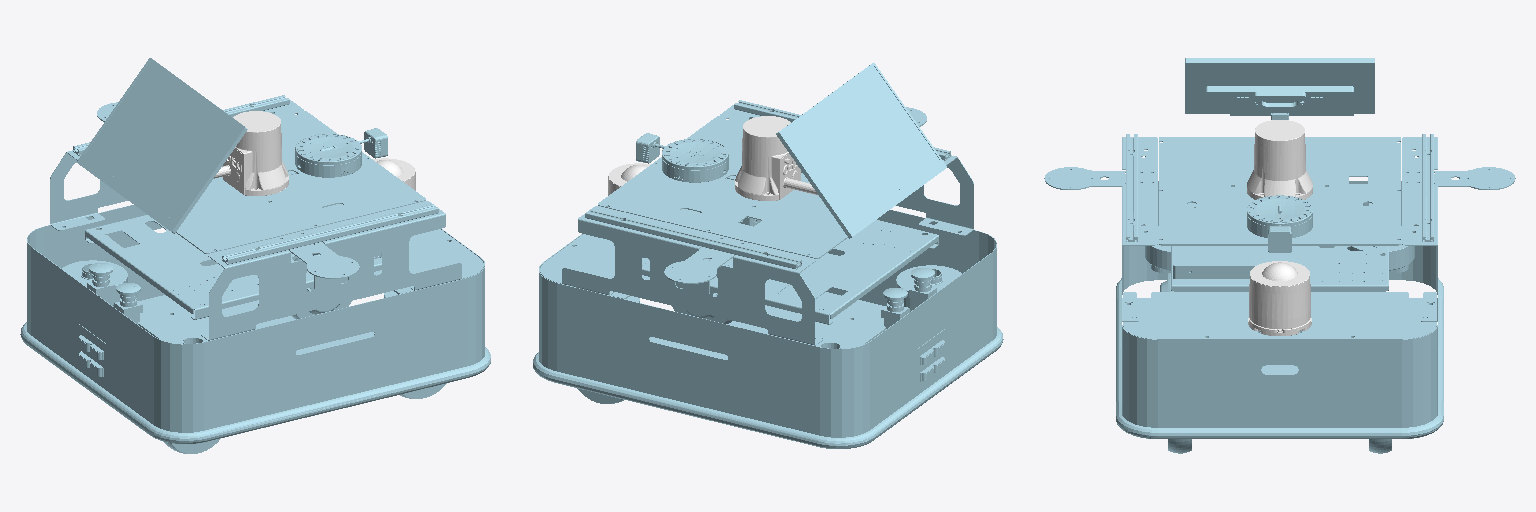
The robot description file, URDF, robot "lucsys_lsr280":
<?xml version='1.0' encoding='utf-8'?>
<robot name="lucsys_lsr280">
  <link name="base_link">
    <inertial>
      <origin xyz="-0.00753797834386813 -0.00814576137308423 0.203659052007732" rpy="0 0 0" />
      <mass value="3.83753509134802" />
      <inertia ixx="0.0690213522644573" ixy="6.3310630155369E-06" ixz="-0.00108874459642607" iyy="0.075412231675279" iyz="0.000103677497419522" izz="0.134765586841472" />
    </inertial>
    <visual>
      <origin xyz="0 0 0" rpy="0 0 0" />
      <geometry>
        <mesh filename="package://lucsys_lsr280_description/meshes/lsr280/base_link.STL" />
      </geometry>
      <material name="lucsys_material_0">
        <color rgba="0.741176470588235 0.901960784313726 0.956862745098039 1" />
      </material>
    </visual>
    <collision>
      <origin xyz="0 0 0" rpy="0 0 0" />
      <geometry>
        <mesh filename="package://lucsys_lsr280_description/meshes/lsr280/base_link.STL" />
      </geometry>
    </collision>
  </link>
  <link name="rf_steer_link">
    <inertial>
      <origin xyz="-7.58230422892581E-11 0.00564153541988954 0.00604698440640848" rpy="0 0 0" />
      <mass value="0.467711369013212" />
      <inertia ixx="0.000425754119516289" ixy="7.54298178742571E-16" ixz="-3.69123515824386E-14" iyy="0.000451726615216854" iyz="-6.92990173961664E-15" izz="0.000706217744742119" />
    </inertial>
    <visual>
      <origin xyz="0 0 0" rpy="0 0 0" />
      <geometry>
        <mesh filename="package://lucsys_lsr280_description/meshes/lsr280/rf_steer_link.STL" />
      </geometry>
      <material name="lucsys_material_1">
        <color rgba="0.741176470588235 0.901960784313726 0.956862745098039 1" />
      </material>
    </visual>
    <collision>
      <origin xyz="0 0 0" rpy="0 0 0" />
      <geometry>
        <mesh filename="package://lucsys_lsr280_description/meshes/lsr280/rf_steer_link.STL" />
      </geometry>
    </collision>
  </link>
  <joint name="rf_steer_link" type="revolute">
    <origin xyz="0.214 -0.1652 0.0864" rpy="0 0 0" />
    <parent link="base_link" />
    <child link="rf_steer_link" />
    <axis xyz="0 0 1" />
    <limit lower="-1.57" upper="1.57" effort="0" velocity="0" />
  </joint>
  <link name="rf_wheel_link">
    <inertial>
      <origin xyz="4.83054429789576E-09 -0.000385227412223188 -0.0865001963373404" rpy="0 0 0" />
      <mass value="0.595472207147975" />
      <inertia ixx="0.000649716858839428" ixy="-1.01923145237361E-10" ixz="-1.51483222229343E-24" iyy="0.00104817179765492" iyz="1.05741091814864E-09" izz="0.000649695675212691" />
    </inertial>
    <visual>
      <origin xyz="-0.000000 0.000385 0.086500" rpy="0 0 0" />
      <geometry>
        <mesh filename="package://lucsys_lsr280_description/meshes/lsr280/rf_wheel_link.STL" />
      </geometry>
      <material name="lucsys_material_2">
        <color rgba="0.741176470588235 0.901960784313726 0.956862745098039 1" />
      </material>
    </visual>
    <collision>
      <origin xyz="-0.000000 0.000385 0.086500" rpy="0 0 0" />
      <geometry>
        <mesh filename="package://lucsys_lsr280_description/meshes/lsr280/rf_wheel_link.STL" />
      </geometry>
    </collision>
  </link>
  <joint name="rf_wheel_link" type="continuous">
    <origin xyz="0 0.0002 -0.0865" rpy="0 0 0" />
    <parent link="rf_steer_link" />
    <child link="rf_wheel_link" />
    <axis xyz="0 -1 0" />
  </joint>
  <link name="lf_steer_link">
    <inertial>
      <origin xyz="7.58230700448337E-11 -0.00564153541988963 0.00604698440640844" rpy="0 0 0" />
      <mass value="0.467711369013212" />
      <inertia ixx="0.000425754119516289" ixy="7.54305357997683E-16" ixz="3.69131723544446E-14" iyy="0.000451726615216855" iyz="6.92989030813649E-15" izz="0.000706217744742119" />
    </inertial>
    <visual>
      <origin xyz="0 0 0" rpy="0 0 0" />
      <geometry>
        <mesh filename="package://lucsys_lsr280_description/meshes/lsr280/lf_steer_link.STL" />
      </geometry>
      <material name="lucsys_material_3">
        <color rgba="0.741176470588235 0.901960784313726 0.956862745098039 1" />
      </material>
    </visual>
    <collision>
      <origin xyz="0 0 0" rpy="0 0 0" />
      <geometry>
        <mesh filename="package://lucsys_lsr280_description/meshes/lsr280/lf_steer_link.STL" />
      </geometry>
    </collision>
  </link>
  <joint name="lf_steer_link" type="revolute">
    <origin xyz="0.214 0.1652 0.0864" rpy="0 0 0" />
    <parent link="base_link" />
    <child link="lf_steer_link" />
    <axis xyz="0 0 1" />
    <limit lower="-1.57" upper="1.57" effort="0" velocity="0" />
  </joint>
  <link name="lf_wheel_link">
    <inertial>
      <origin xyz="-5.20844425921929E-09 0.000185227346942707 -1.96337340457891E-07" rpy="0 0 0" />
      <mass value="0.595472207147977" />
      <inertia ixx="0.00064971685883943" ixy="-1.01923145396449E-10" ixz="-6.10251145013779E-23" iyy="0.00104817179765493" iyz="-1.0574109181388E-09" izz="0.000649695675212693" />
    </inertial>
    <visual>
      <origin xyz="0 0 0" rpy="0 0 0" />
      <geometry>
        <mesh filename="package://lucsys_lsr280_description/meshes/lsr280/lf_wheel_link.STL" />
      </geometry>
      <material name="lucsys_material_4">
        <color rgba="0.741176470588235 0.901960784313726 0.956862745098039 1" />
      </material>
    </visual>
    <collision>
      <origin xyz="0 0 0" rpy="0 0 0" />
      <geometry>
        <mesh filename="package://lucsys_lsr280_description/meshes/lsr280/lf_wheel_link.STL" />
      </geometry>
    </collision>
  </link>
  <joint name="lf_wheel_link" type="continuous">
    <origin xyz="0 0.0002 -0.0865" rpy="0 0 0" />
    <parent link="lf_steer_link" />
    <child link="lf_wheel_link" />
    <axis xyz="0 -1 0" />
  </joint>
  <link name="rb_steer_link">
    <inertial>
      <origin xyz="-7.58230700448337E-11 0.00564153541988954 0.00604698440640847" rpy="0 0 0" />
      <mass value="0.467711369013212" />
      <inertia ixx="0.00042575411951629" ixy="7.54383015235181E-16" ixz="-3.69123412639467E-14" iyy="0.000451726615216855" iyz="-6.93020398684759E-15" izz="0.000706217744742119" />
    </inertial>
    <visual>
      <origin xyz="0 0 0" rpy="0 0 0" />
      <geometry>
        <mesh filename="package://lucsys_lsr280_description/meshes/lsr280/rb_steer_link.STL" />
      </geometry>
      <material name="lucsys_material_5">
        <color rgba="0.741176470588235 0.901960784313726 0.956862745098039 1" />
      </material>
    </visual>
    <collision>
      <origin xyz="0 0 0" rpy="0 0 0" />
      <geometry>
        <mesh filename="package://lucsys_lsr280_description/meshes/lsr280/rb_steer_link.STL" />
      </geometry>
    </collision>
  </link>
  <joint name="rb_steer_link" type="revolute">
    <origin xyz="-0.214 -0.1652 0.0864" rpy="0 0 0" />
    <parent link="base_link" />
    <child link="rb_steer_link" />
    <axis xyz="0 0 1" />
    <limit lower="-1.57" upper="1.57" effort="0" velocity="0" />
  </joint>
  <link name="rb_wheel_link">
    <inertial>
      <origin xyz="-0.0601994266051517 -0.0191852273469427 -1.96337339644536E-07" rpy="0 0 0" />
      <mass value="0.595472207147967" />
      <inertia ixx="0.000649716858839405" ixy="-1.0192314513013E-10" ixz="-2.93130114350596E-24" iyy="0.0010481717976549" iyz="1.05741091832289E-09" izz="0.00064969567521269" />
    </inertial>
    <visual>
      <origin xyz="0.060199 0.019185 0.000000" rpy="0 0 0" />
      <geometry>
        <mesh filename="package://lucsys_lsr280_description/meshes/lsr280/rb_wheel_link.STL" />
      </geometry>
      <material name="lucsys_material_6">
        <color rgba="0.741176470588235 0.901960784313726 0.956862745098039 1" />
      </material>
    </visual>
    <collision>
      <origin xyz="0.060199 0.019185 0.000000" rpy="0 0 0" />
      <geometry>
        <mesh filename="package://lucsys_lsr280_description/meshes/lsr280/rb_wheel_link.STL" />
      </geometry>
    </collision>
  </link>
  <joint name="rb_wheel_link" type="continuous">
    <origin xyz="0 0.0002 -0.0865" rpy="0 0 0" />
    <parent link="rb_steer_link" />
    <child link="rb_wheel_link" />
    <axis xyz="0 -1 0" />
  </joint>
  <link name="lb_steer_link">
    <inertial>
      <origin xyz="1.10340653280971E-10 -0.00564153541393558 0.00604698440640845" rpy="0 0 0" />
      <mass value="0.467711369013212" />
      <inertia ixx="0.000425754119516289" ixy="7.54300366401339E-16" ixz="3.69131660058652E-14" iyy="0.000451726615216855" iyz="6.9298922932142E-15" izz="0.000706217744742119" />
    </inertial>
    <visual>
      <origin xyz="0 0 0" rpy="0 0 0" />
      <geometry>
        <mesh filename="package://lucsys_lsr280_description/meshes/lsr280/lb_steer_link.STL" />
      </geometry>
      <material name="lucsys_material_7">
        <color rgba="0.741176470588235 0.901960784313726 0.956862745098039 1" />
      </material>
    </visual>
    <collision>
      <origin xyz="0 0 0" rpy="0 0 0" />
      <geometry>
        <mesh filename="package://lucsys_lsr280_description/meshes/lsr280/lb_steer_link.STL" />
      </geometry>
    </collision>
  </link>
  <joint name="lb_steer_link" type="revolute">
    <origin xyz="-0.214 0.1652 0.0864" rpy="0 0 0" />
    <parent link="base_link" />
    <child link="lb_steer_link" />
    <axis xyz="0 0 1" />
    <limit lower="-1.57" upper="1.57" effort="0" velocity="0" />
  </joint>
  <link name="lb_wheel_link">
    <inertial>
      <origin xyz="-5.20844425921929E-09 0.000185227346942762 -1.96337340527402E-07" rpy="0 0 0" />
      <mass value="0.595472207147976" />
      <inertia ixx="0.000649716858839427" ixy="-1.01923145556929E-10" ixz="-6.10255341203615E-23" iyy="0.00104817179765492" iyz="-1.05741091814961E-09" izz="0.00064969567521269" />
    </inertial>
    <visual>
      <origin xyz="0 0 0" rpy="0 0 0" />
      <geometry>
        <mesh filename="package://lucsys_lsr280_description/meshes/lsr280/lb_wheel_link.STL" />
      </geometry>
      <material name="lucsys_material_8">
        <color rgba="0.741176470588235 0.901960784313726 0.956862745098039 1" />
      </material>
    </visual>
    <collision>
      <origin xyz="0 0 0" rpy="0 0 0" />
      <geometry>
        <mesh filename="package://lucsys_lsr280_description/meshes/lsr280/lb_wheel_link.STL" />
      </geometry>
    </collision>
  </link>
  <joint name="lb_wheel_link" type="continuous">
    <origin xyz="0 0.0002 -0.0865" rpy="0 0 0" />
    <parent link="lb_steer_link" />
    <child link="lb_wheel_link" />
    <axis xyz="0 -1 0" />
  </joint>
  <link name="laser_link">
    <inertial>
      <origin xyz="-0.000677114505780341 -8.41356138404303E-06 -0.0219842258666881" rpy="0 0 0" />
      <mass value="0.296686392465306" />
      <inertia ixx="0.000210515439352395" ixy="-1.29266103728108E-07" ixz="-3.7480098701265E-06" iyy="0.000217646688126463" iyz="-6.02066912171458E-08" izz="0.000245285254690996" />
    </inertial>
    <visual>
      <origin xyz="0 0 0" rpy="0 0 0" />
      <geometry>
        <mesh filename="package://lucsys_lsr280_description/meshes/lsr280/laser_link.STL" />
      </geometry>
      <material name="lucsys_material_9">
        <color rgba="1 1 1 1" />
      </material>
    </visual>
    <collision>
      <origin xyz="0 0 0" rpy="0 0 0" />
      <geometry>
        <mesh filename="package://lucsys_lsr280_description/meshes/lsr280/laser_link.STL" />
      </geometry>
    </collision>
  </link>
  <joint name="laser_link" type="fixed">
    <origin xyz="0.2448 0 0.2562" rpy="0 0 0" />
    <parent link="base_link" />
    <child link="laser_link" />
    <axis xyz="0 0 0" />
  </joint>
  <link name="column_base_link">
    <inertial>
      <origin xyz="-0.0068177559606831 0.000540682078324438 0.0496371364033648" rpy="0 0 0" />
      <mass value="0.72242859218225" />
      <inertia ixx="0.00110402837532373" ixy="8.33436523962366E-07" ixz="2.01382892651993E-05" iyy="0.00111411833765427" iyz="-2.31646703103886E-07" izz="0.000761765408310719" />
    </inertial>
    <visual>
      <origin xyz="0 0 0" rpy="0 0 0" />
      <geometry>
        <mesh filename="package://lucsys_lsr280_description/meshes/lsr280/column_base_link.STL" />
      </geometry>
      <material name="lucsys_material_10">
        <color rgba="1 1 1 1" />
      </material>
    </visual>
    <collision>
      <origin xyz="0 0 0" rpy="0 0 0" />
      <geometry>
        <mesh filename="package://lucsys_lsr280_description/meshes/lsr280/column_base_link.STL" />
      </geometry>
    </collision>
  </link>
  <joint name="column_base_link" type="fixed">
    <origin xyz="0.00399301483404584 -6.18762544615299E-05 0.307000000000004" rpy="0 0 0" />
    <parent link="base_link" />
    <child link="column_base_link" />
    <axis xyz="0 0 0" />
  </joint>
</robot>

--- What the picture shows (computed from the rendered views, not written in the file) ---
3 views of the same robot in one strip: view 1: azimuth 30°, elevation 25°; view 2: azimuth 150°, elevation 25°; view 3: azimuth 270°, elevation 25° (orthographic).
Model lucsys_lsr280 with 11 links and 10 joints (4 revolute, 4 continuous, 2 fixed), rooted at base_link, posed every joint at zero.
Visible links, largest first — view 1: base_link, column_base_link, lb_steer_link, laser_link; view 2: base_link, column_base_link, rb_steer_link, laser_link; view 3: base_link, laser_link, column_base_link, lb_steer_link, rb_steer_link.
Boxes of the visible links, x1,y1,x2,y2 form: base_link: (20, 58, 490, 443); column_base_link: (214, 111, 288, 195); lb_steer_link: (62, 260, 127, 306); laser_link: (373, 158, 415, 190); base_link: (533, 63, 1003, 448); column_base_link: (735, 116, 818, 200); rb_steer_link: (896, 265, 961, 311); laser_link: (608, 163, 650, 195); base_link: (1044, 58, 1515, 438); laser_link: (1248, 261, 1311, 335); column_base_link: (1247, 120, 1312, 199); lb_steer_link: (1347, 226, 1414, 272); rb_steer_link: (1145, 226, 1170, 272).
Bounding box of the posed robot: 0.64 × 0.7764 × 0.561 m (x, y, z).
Meshes: 11 distinct files referenced, 10 mesh visuals loaded (10 binary STL); not drawn: 1 (reference not matched to a file when rendering).
